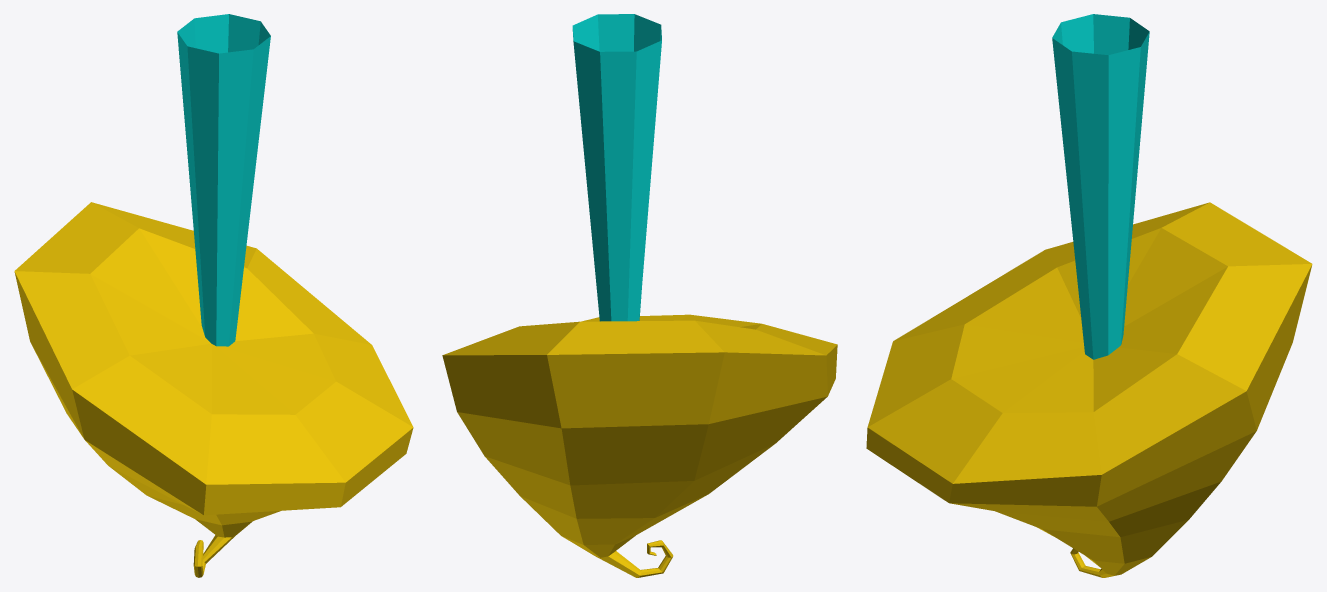
The model's file is GEO_mushroom_hanging.fbx.
3 renders of one model, left to right at view 1: azimuth 30°, elevation 25°; view 2: azimuth 150°, elevation 25°; view 3: azimuth 270°, elevation 25°, orthographic. The views are drawn at different scales.
Parts seen in each view (by area): view 1: GEO_mushroom_roof; view 2: GEO_mushroom_roof; view 3: GEO_mushroom_roof.
Boxes of the visible parts, x1=… form: GEO_mushroom_roof: x1=14, y1=14, x2=413, y2=577; GEO_mushroom_roof: x1=442, y1=14, x2=837, y2=577; GEO_mushroom_roof: x1=866, y1=14, x2=1312, y2=577.
Size of the model in its own units: 255 by 394 by 287.
